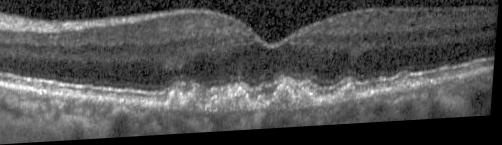retinal_drusen: (212, 93, 251, 117), (395, 82, 432, 99), (168, 90, 187, 113), (272, 91, 293, 110), (188, 97, 204, 115), (345, 93, 359, 106), (376, 88, 389, 101), (301, 97, 313, 111), (442, 78, 453, 89), (258, 102, 268, 112), (322, 103, 333, 110), (335, 100, 344, 107)
